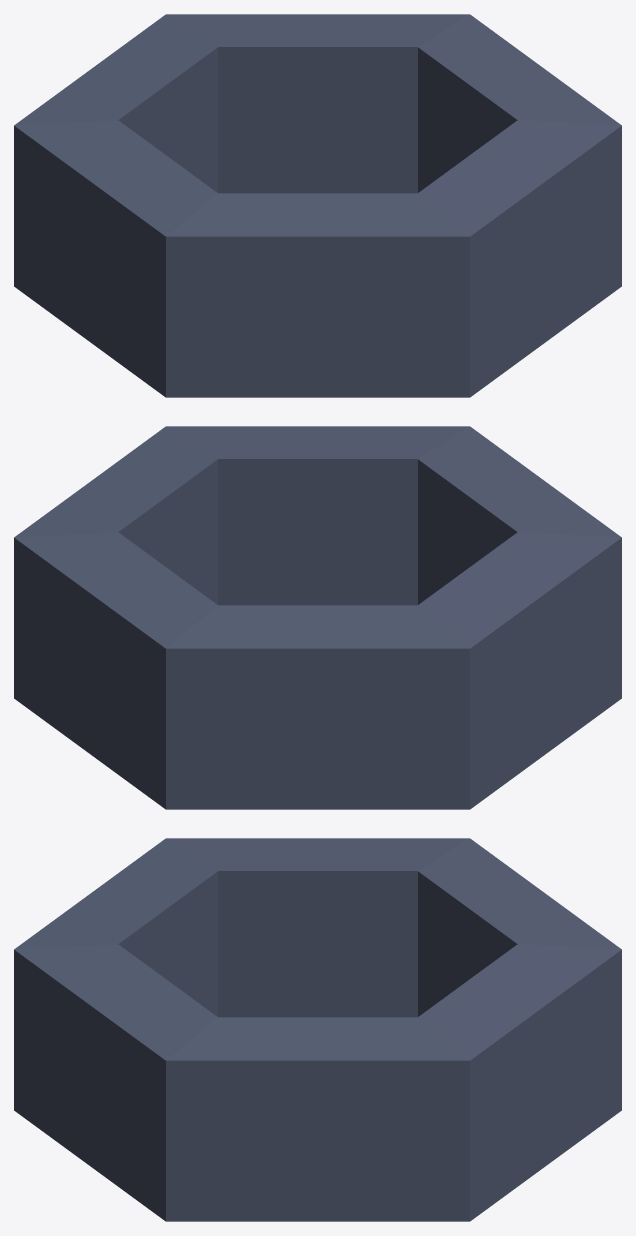
The model's file is blade-trap-base.glb.
The picture shows the model from 3 angles, top to bottom: view 1: azimuth 30°, elevation 25°; view 2: azimuth 150°, elevation 25°; view 3: azimuth 270°, elevation 25°; orthographic projection.
Parts seen in each view (by area): view 1: blade trap base; view 2: blade trap base; view 3: blade trap base.
Part boxes in pixels (box(x1,y1,x2,y2)): blade trap base: box(14, 14, 621, 397); blade trap base: box(14, 426, 621, 809); blade trap base: box(14, 838, 621, 1221).
Bounding box in the file's own units: 1.73 × 0.6034 × 2.
